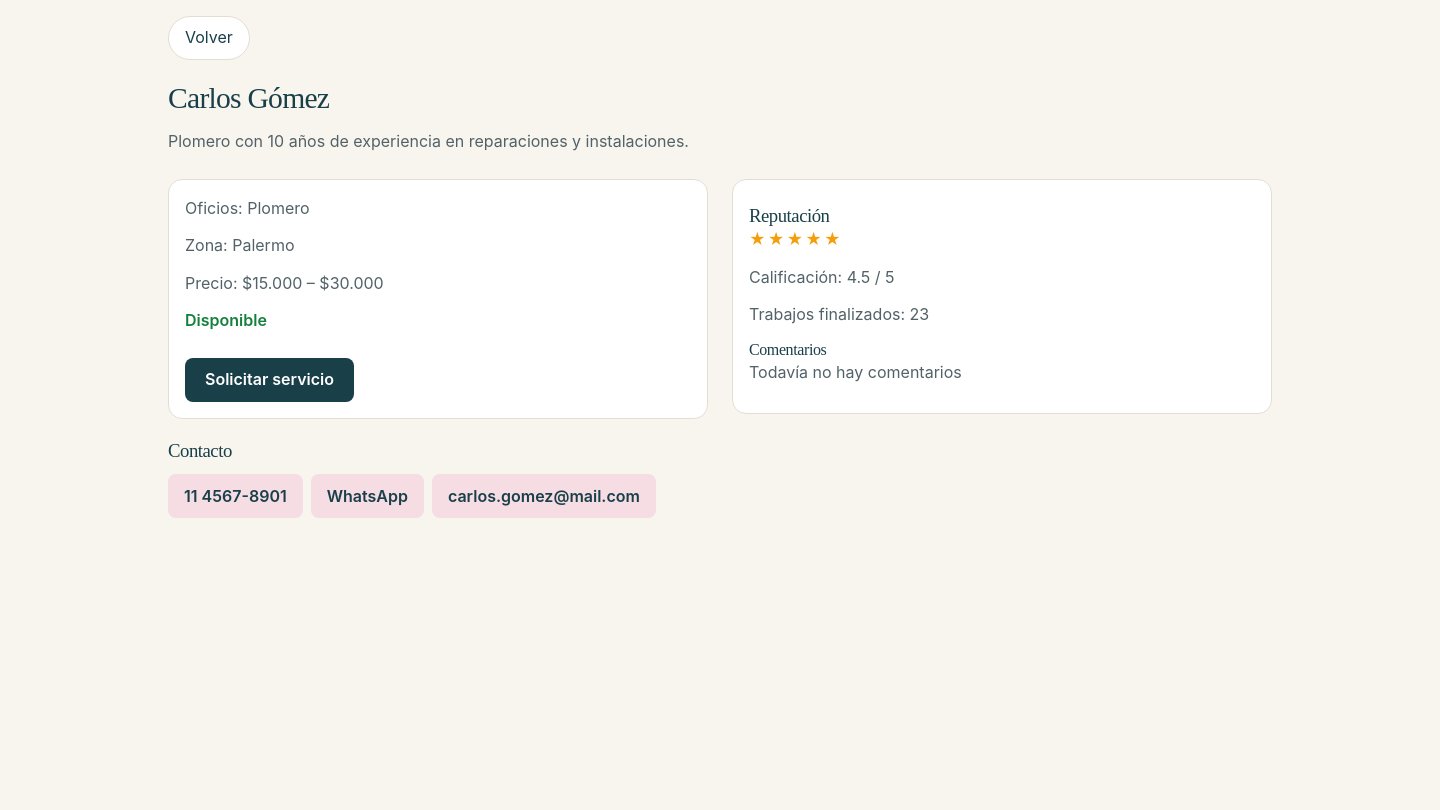
F-11 - Formulario de solicitud › abre el formulario desde el detalle del prestador
Click the button "Solicitar servicio" at (270,380), box [185,358,354,402]
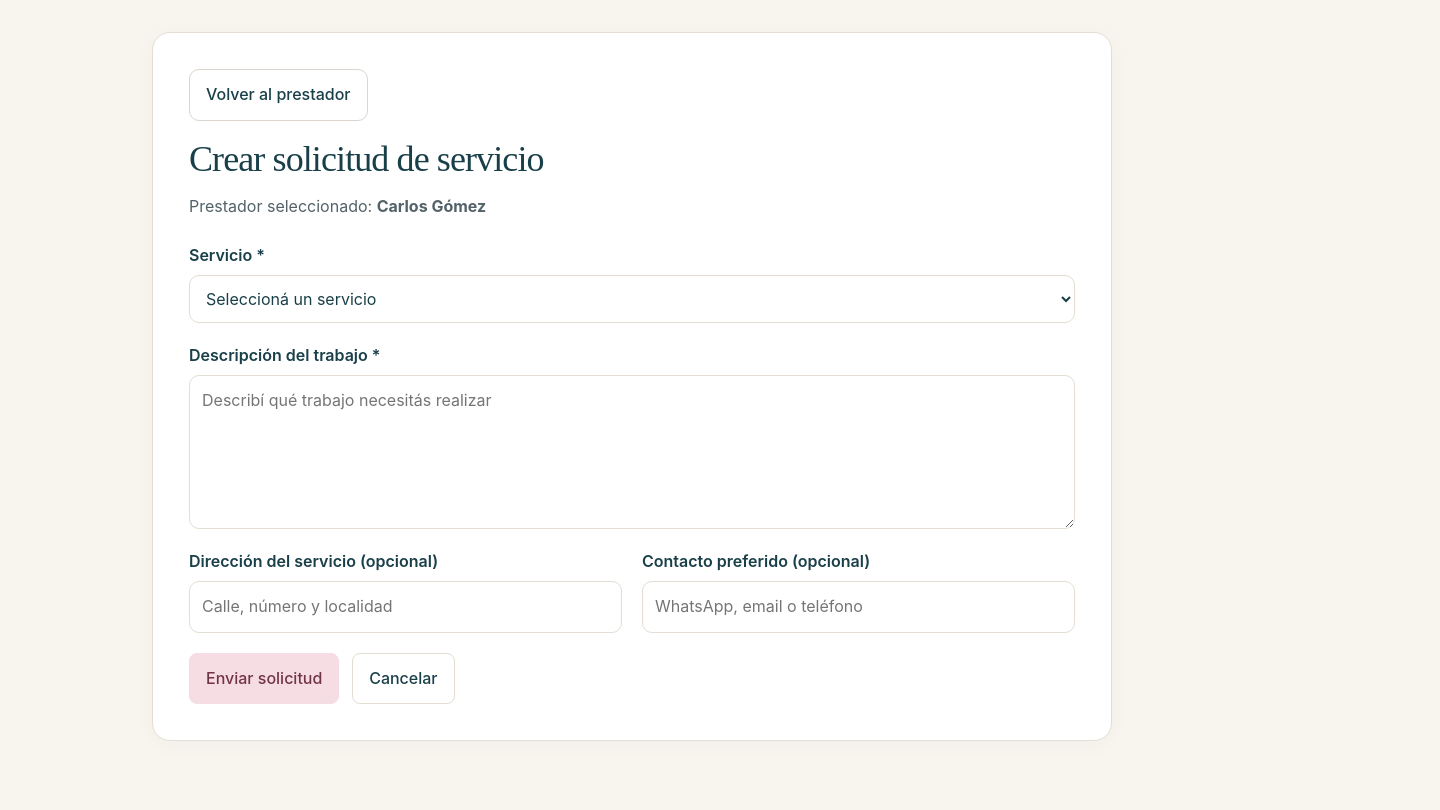
Now the heading "Crear solicitud de servicio" is shown, box [189,139,544,179]
Now the button "Enviar solicitud" is shown, box [189,653,339,704]
